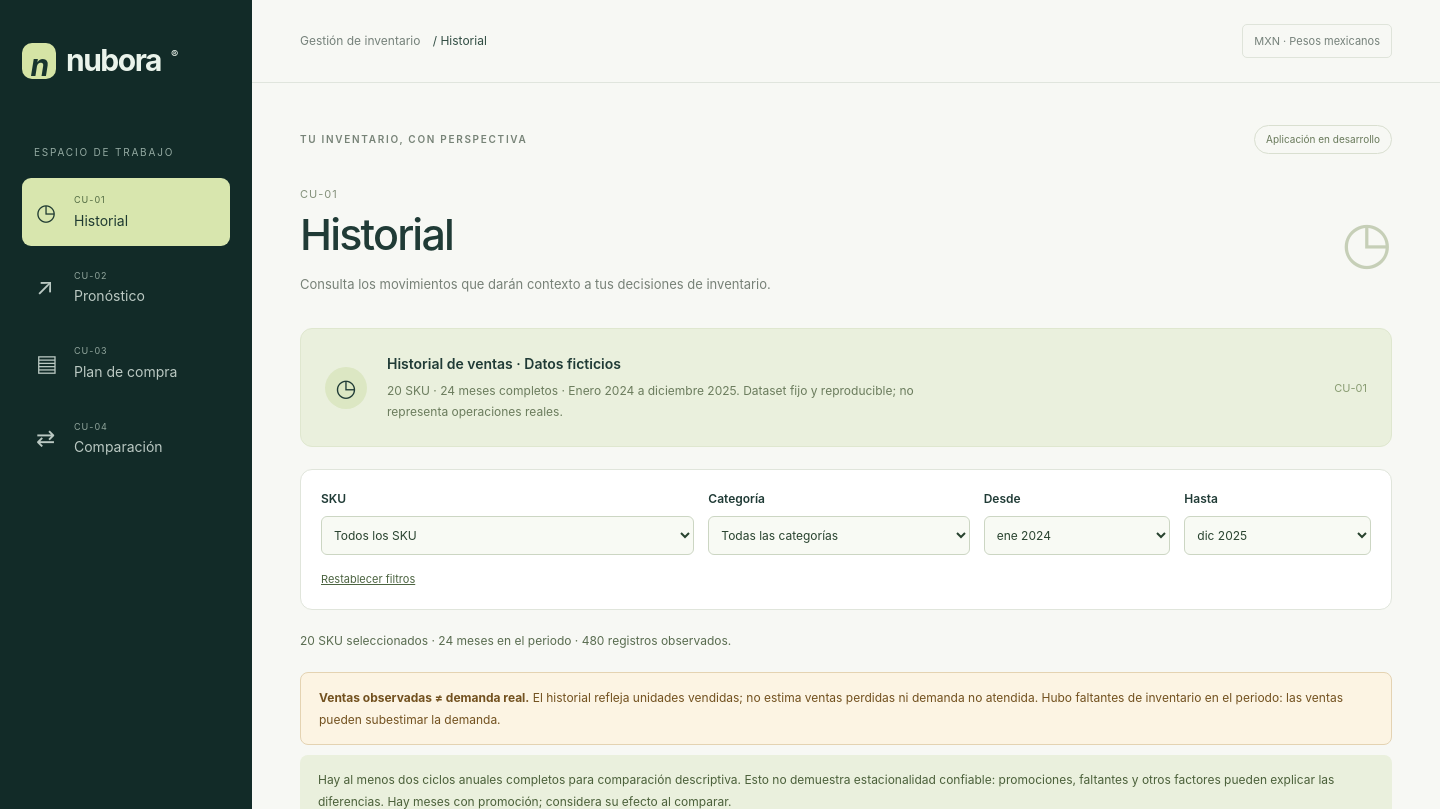
Test: Nubora › abre CU-03 y permite seguir usando CU-01 y CU-02
The image size is (1440, 809).
Click the button "▤ CU-03 Plan de compra". click: point(126, 363)
box: [22, 329, 230, 396]
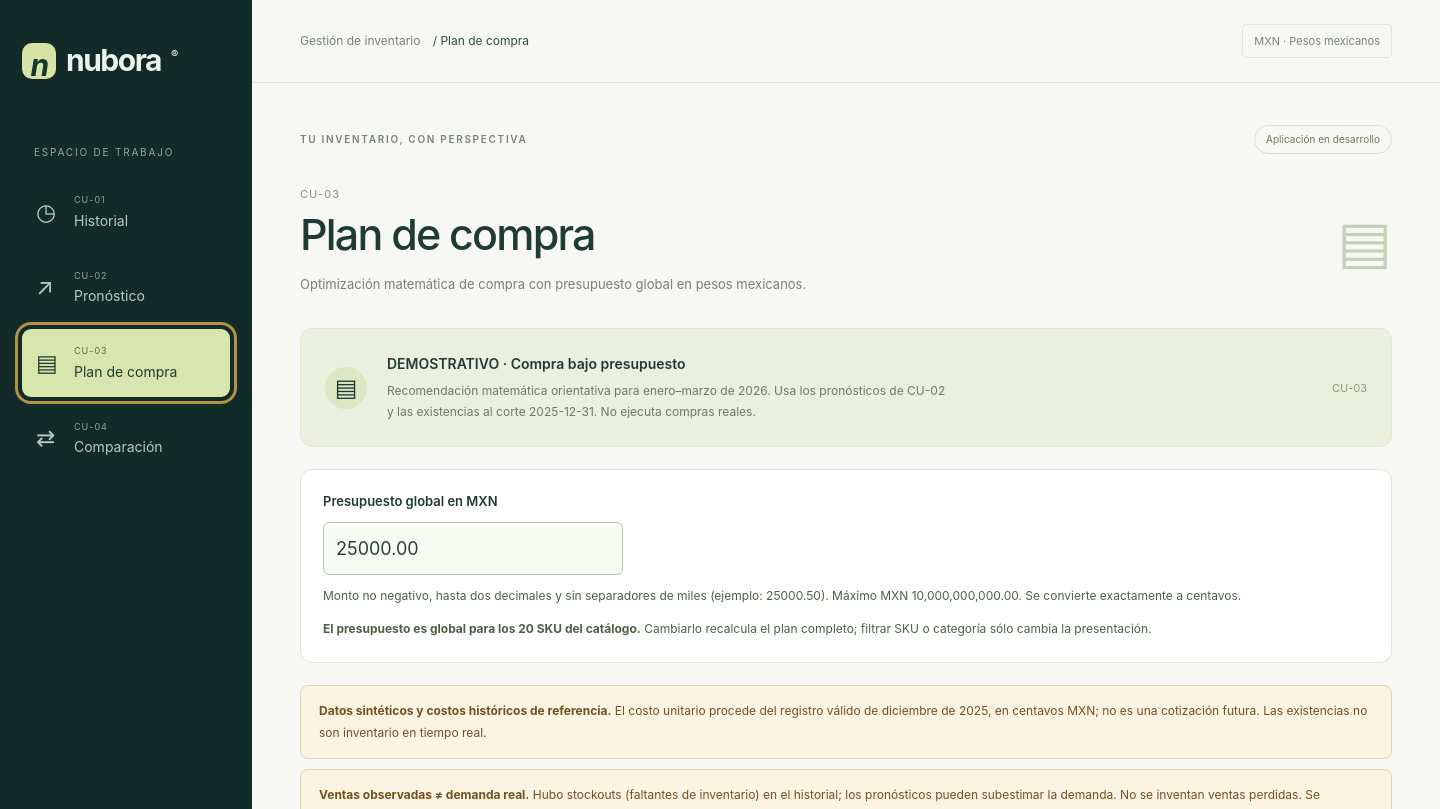
Click the button "↗ CU-02 Pronóstico". click: point(126, 287)
box: [22, 254, 230, 321]
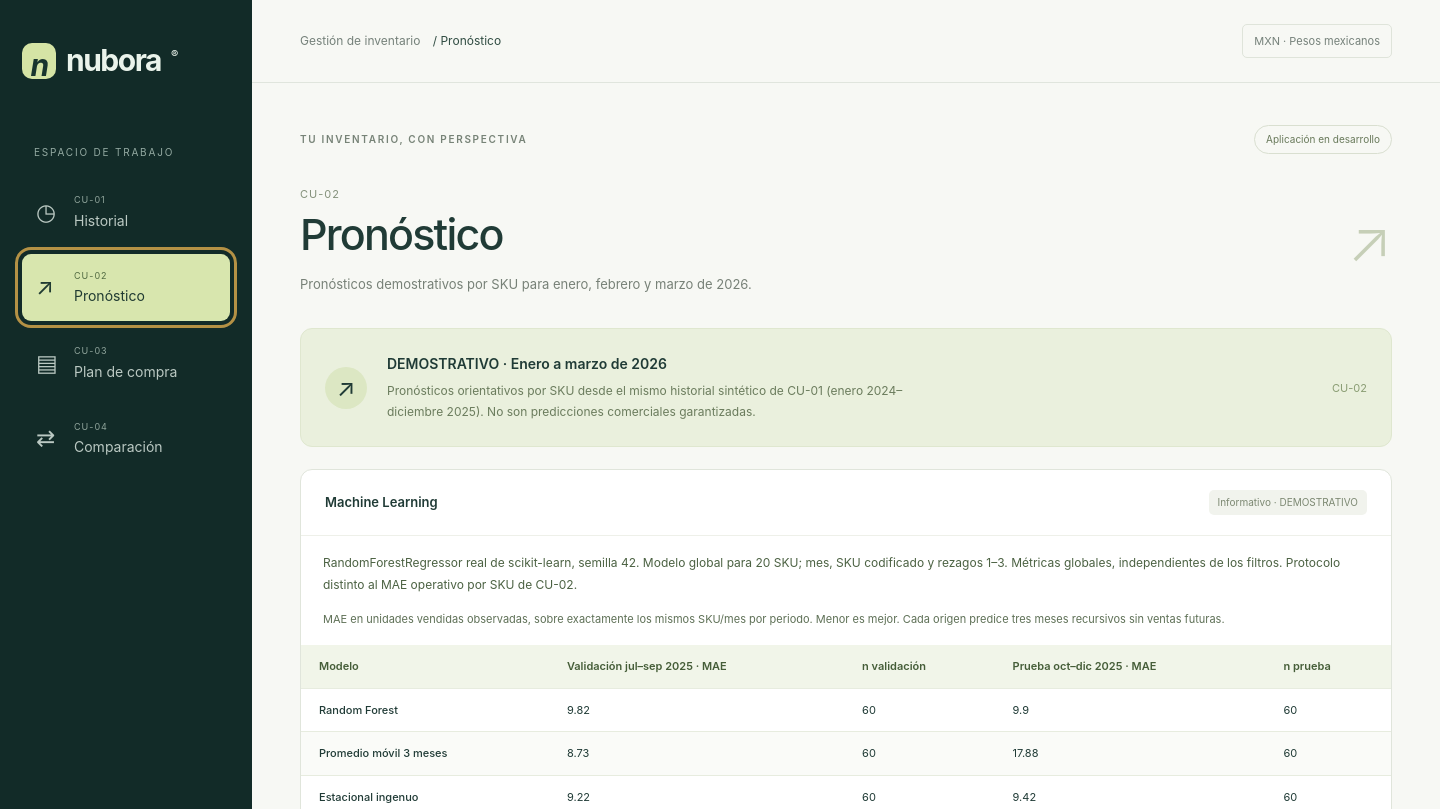
Click the button "◷ CU-01 Historial". click: point(126, 212)
box: [22, 178, 230, 246]
(page scrolled)
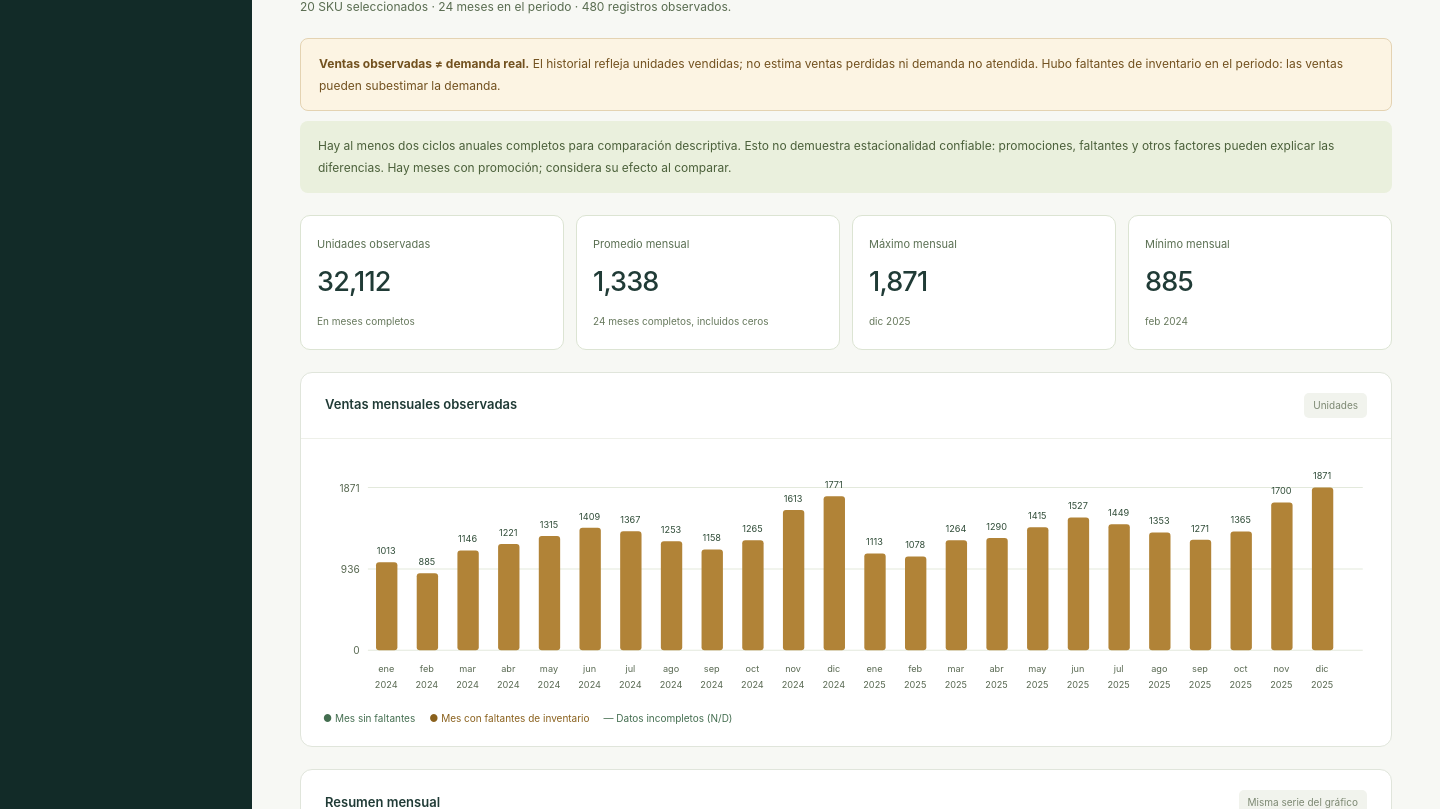
expect the heading "Ventas mensuales observadas" is shown: met, box [325, 395, 517, 415]
